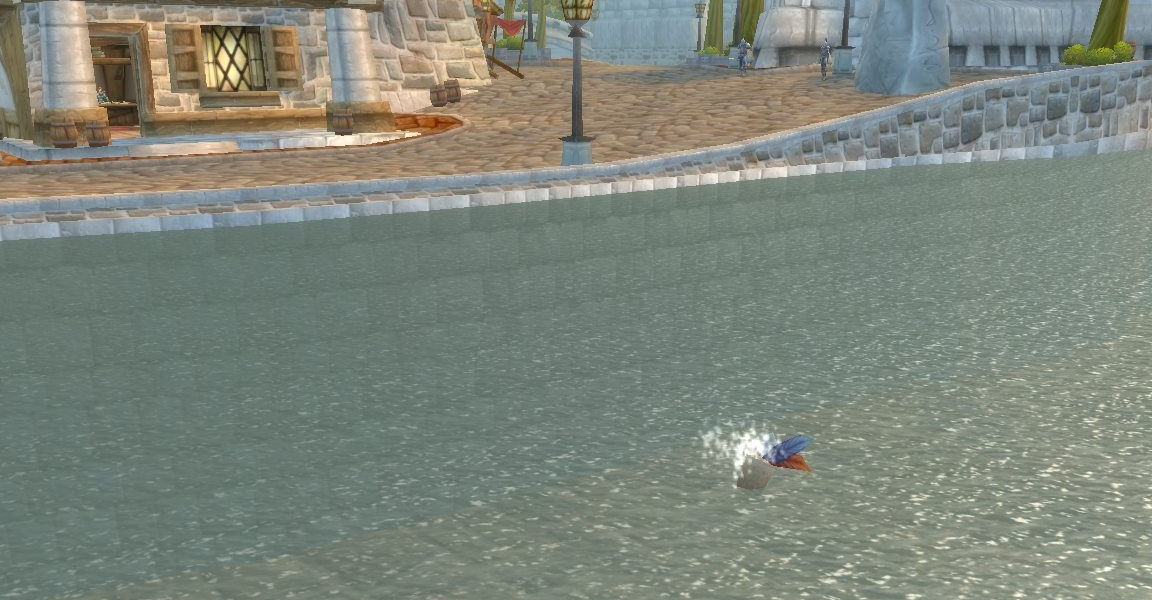Splash: (716, 421, 818, 493)
